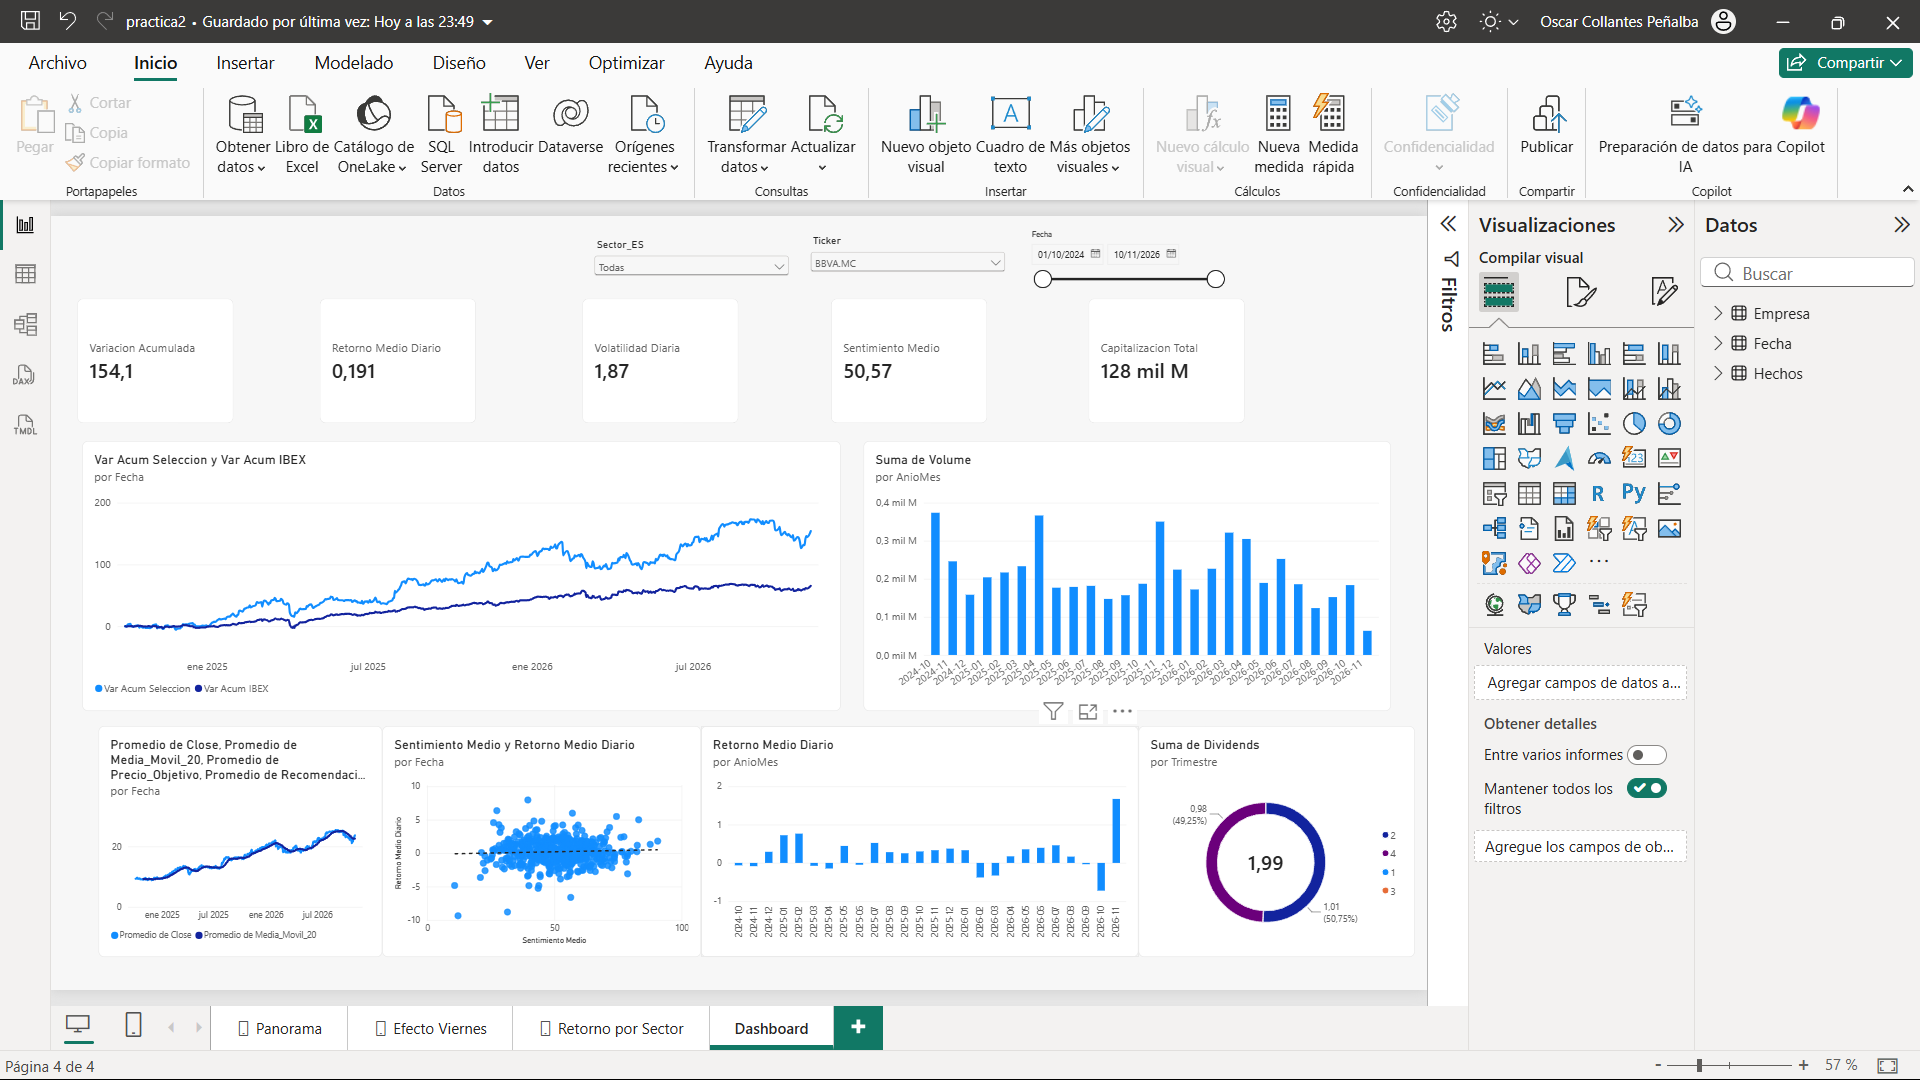

What the dashboard file says about the page in this screenshot:
{"tool":"powerbi","page":{"name":"Dashboard","canvas":[1920,1080],"ordinal":3},"visuals":[{"type":"slicer","fields":{"Values":["Empresa.Sector_ES"]},"box":[753.5,31.4,280.8,68],"z":0},{"type":"slicer","fields":{"Values":["Empresa.Ticker"]},"box":[1055.2,26.2,280.8,80.2],"z":1000},{"type":"slicer","fields":{"Values":["Fecha.Fecha"]},"box":[1360.5,19.2,280.8,95.9],"z":2000},{"type":"cardVisual","fields":{"Data":["Hechos.Variacion Acumulada"]},"box":[36.6,115.1,218,174.4],"z":3000},{"type":"cardVisual","fields":{"Data":["Hechos.Retorno Medio Diario"]},"box":[375,115.1,218,174.4],"z":4000},{"type":"cardVisual","fields":{"Data":["Hechos.Volatilidad Diaria"]},"box":[741.3,115.1,218,174.4],"z":5000},{"type":"cardVisual","fields":{"Data":["Hechos.Sentimiento Medio"]},"box":[1088.4,115.1,218,174.4],"z":6000},{"type":"cardVisual","fields":{"Data":["Hechos.Capitalizacion Total"]},"box":[1447.7,115.1,218,174.4],"z":7000},{"type":"lineChart","fields":{"Category":["Fecha.Fecha"],"Y":["Hechos.Var Acum Seleccion","Hechos.Var Acum IBEX"]},"box":[43.6,314,1058.7,376.7],"z":8000},{"type":"clusteredColumnChart","fields":{"Category":["Fecha.AnioMes"],"Y":["Sum(Hechos.Volume)"]},"box":[1133.7,314,736,376.7],"z":9000},{"type":"lineChart","fields":{"Category":["Fecha.Fecha"],"Y":["Avg(Hechos.Close)","Avg(Hechos.Media_Movil_20)"]},"box":[66.3,711.6,395.9,322.7],"z":10000},{"type":"scatterChart","fields":{"Category":["Fecha.Fecha"],"X":["Hechos.Sentimiento Medio"],"Y":["Hechos.Retorno Medio Diario"]},"box":[462.2,711.6,444.8,322.7],"z":11000},{"type":"clusteredColumnChart","fields":{"Category":["Fecha.AnioMes"],"Y":["Hechos.Retorno Medio Diario"]},"box":[907,711.6,610.5,322.7],"z":12000},{"type":"donutChart","fields":{"Category":["Fecha.Trimestre"],"Y":["Sum(Hechos.Dividends)"]},"box":[1517.4,711.6,385.5,322.7],"z":13000},{"type":"cardVisual","fields":{"Data":["Hechos.Titulo Dashboard"]},"box":[66.3,19.2,556.4,75],"z":13001}]}

Visuals, with their boxes on the page's 1920x1080 design canvas (x1, y1, x2, y2). These are canvas units, not pixel positions in the 1920x1080 screenshot, which may show the page scaled, cropped or inside an application window:
slicer - Empresa.Sector_ES: box(754, 31, 1034, 99)
slicer - Empresa.Ticker: box(1055, 26, 1336, 106)
slicer - Fecha.Fecha: box(1360, 19, 1641, 115)
cardVisual - Hechos.Variacion Acumulada: box(37, 115, 255, 290)
cardVisual - Hechos.Retorno Medio Diario: box(375, 115, 593, 290)
cardVisual - Hechos.Volatilidad Diaria: box(741, 115, 959, 290)
cardVisual - Hechos.Sentimiento Medio: box(1088, 115, 1306, 290)
cardVisual - Hechos.Capitalizacion Total: box(1448, 115, 1666, 290)
lineChart - Fecha.Fecha x Hechos.Var Acum Seleccion: box(44, 314, 1102, 691)
clusteredColumnChart - Fecha.AnioMes x Sum(Hechos.Volume): box(1134, 314, 1870, 691)
lineChart - Fecha.Fecha x Avg(Hechos.Close): box(66, 712, 462, 1034)
scatterChart - Fecha.Fecha x Hechos.Sentimiento Medio: box(462, 712, 907, 1034)
clusteredColumnChart - Fecha.AnioMes x Hechos.Retorno Medio Diario: box(907, 712, 1518, 1034)
donutChart - Fecha.Trimestre x Sum(Hechos.Dividends): box(1517, 712, 1903, 1034)
cardVisual - Hechos.Titulo Dashboard: box(66, 19, 623, 94)
